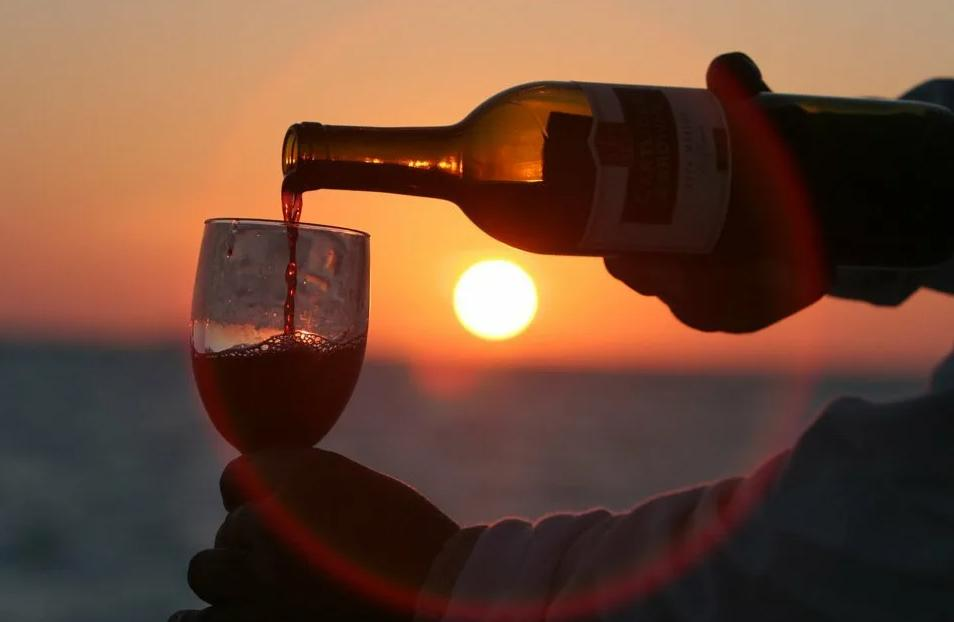wine bottle: (281, 80, 954, 267)
wine label: (576, 82, 732, 255)
